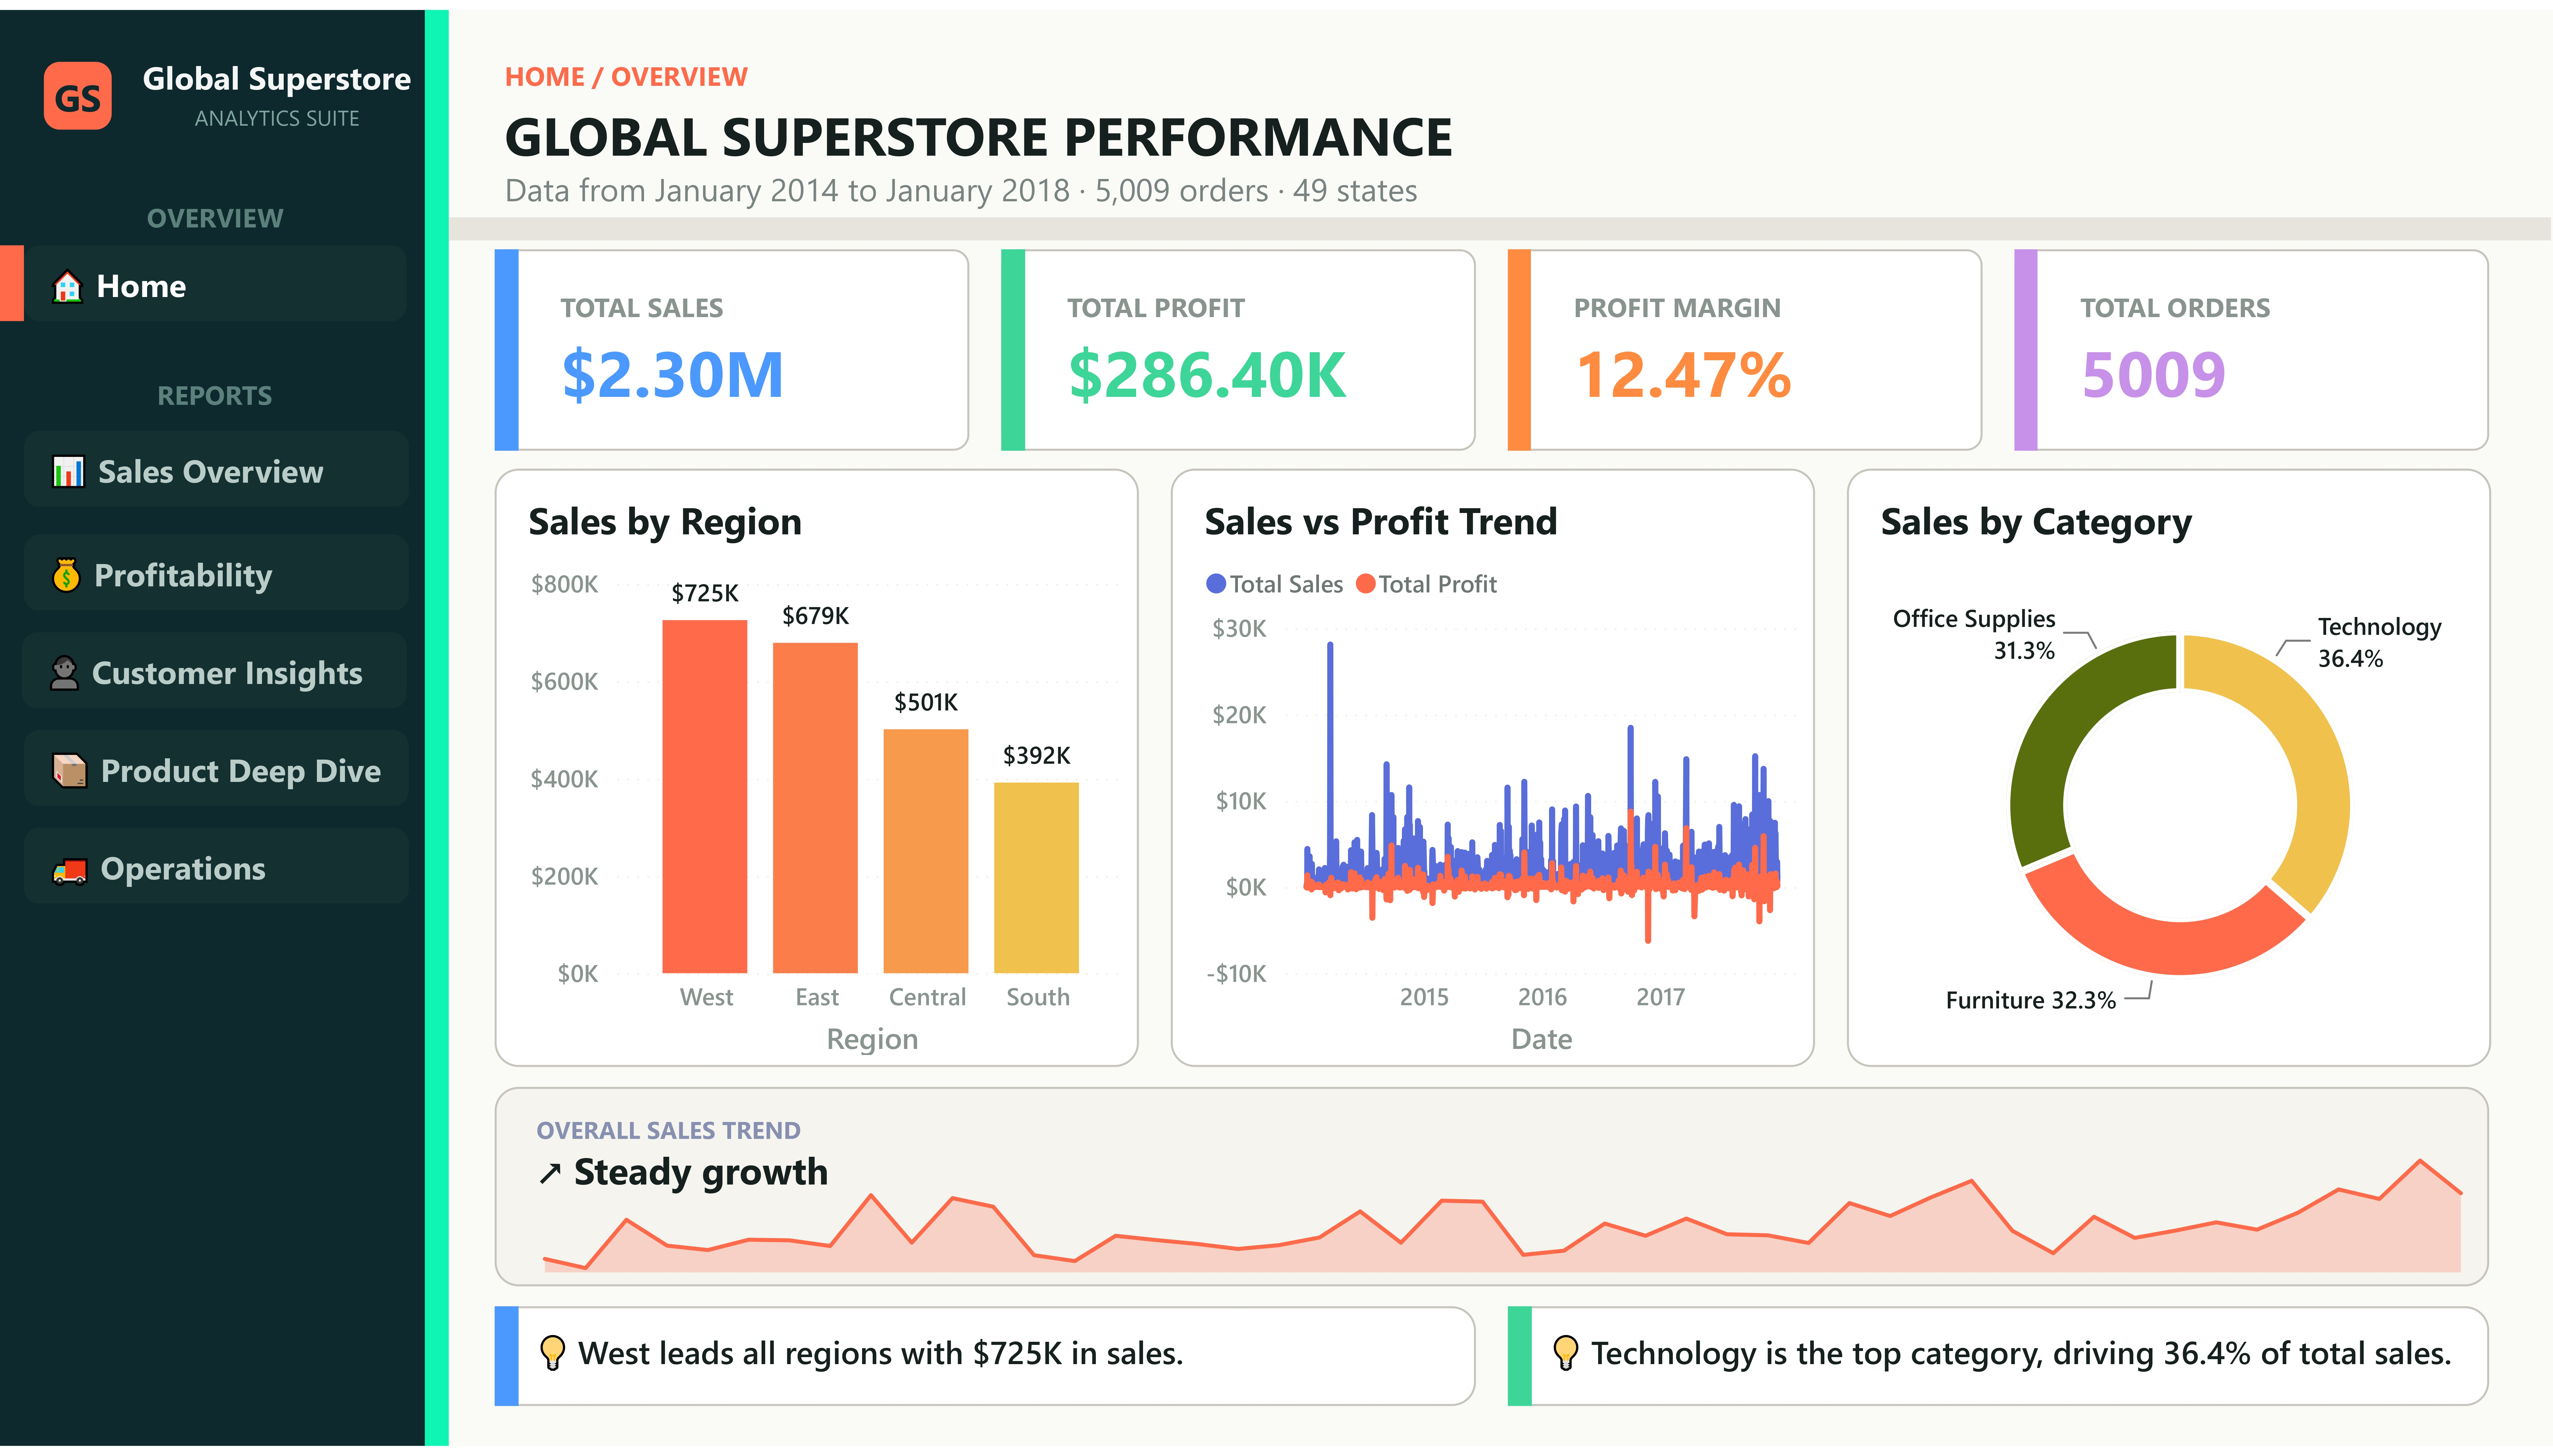

This screenshot's page, from the dashboard's own definition file:
{"tool":"powerbi","page":{"name":"Home","canvas":[1280,720],"ordinal":1},"visuals":[{"type":"cardVisual","fields":{"Data":["Measure.Total Orders"]},"box":[1010,120,238.1,101],"z":0},{"type":"shape","box":[216.4,104,1063.3,11.5],"z":1000},{"type":"shape","box":[0,0,216,720],"z":2000},{"type":"shape","box":[213.3,0,12,720.3],"z":3000},{"type":"shape","box":[22,26,34,34],"z":4000},{"type":"textbox","box":[63.5,18,149.8,50.3],"z":5000},{"type":"textbox","box":[22,90,172,29],"z":6000},{"type":"textbox","box":[22,179,171.4,28.8],"z":7000},{"type":"actionButton","box":[12,118,192,38],"z":8000},{"type":"shape","box":[0,118,12,38],"z":9000},{"type":"actionButton","box":[12,211,193,38.4],"z":10000},{"type":"actionButton","box":[10.8,312,193,38.4],"z":11000},{"type":"actionButton","box":[12,410,193,38.4],"z":12000},{"type":"actionButton","box":[12,263,193,38.4],"z":13000},{"type":"actionButton","box":[12,361,193,38.4],"z":14000},{"type":"textbox","box":[248.2,18.8,499.2,27.4],"z":15000},{"type":"textbox","box":[248.2,39,699.7,46.2],"z":16000},{"type":"cardVisual","fields":{"Data":["Measure.Home Subtitle1"]},"box":[248.2,72.1,699.7,34.6],"z":17000},{"type":"cardVisual","fields":{"Data":["Measure.Total Sales"]},"box":[248.2,120,238,101],"z":18000},{"type":"shape","box":[248,120,12,101],"z":19000},{"type":"cardVisual","fields":{"Data":["Measure.Total Profit"]},"box":[502,120,238.1,101],"z":20000},{"type":"shape","box":[502,120,12,101],"z":21000},{"type":"cardVisual","fields":{"Data":["Measure.ProfitMargin%"]},"box":[756,120,238.1,101],"z":22000},{"type":"shape","box":[756,120,11.5,101],"z":23000},{"type":"shape","box":[1010,120,11.5,101],"z":24000},{"type":"clusteredColumnChart","title":"Sales by Region","fields":{"Category":["SuperstoreData.Region"],"Y":["Measure.Total Sales"]},"box":[248.2,230,323,300],"z":25000},{"type":"lineChart","title":"Sales vs Profit Trend","fields":{"Category":["DateMaster.Date"],"Y":["Measure.Total Sales","Measure.Total Profit"]},"box":[587,230,323.2,300],"z":26000},{"type":"donutChart","title":"Sales by Category","fields":{"Category":["SuperstoreData.Category"],"Y":["Measure.Total Sales"]},"box":[926,230,323.2,300],"z":27000},{"type":"areaChart","fields":{"Y":["Measure.Total Sales"],"Category":["DateMaster.Year","DateMaster.Month_Name"]},"box":[248.2,540,1000,100],"z":28000},{"type":"textbox","box":[264,546.8,180.3,60.6],"z":29000},{"type":"cardVisual","fields":{"Data":["DateMaster.Insight 1 Text"]},"box":[248.2,650,492,50.5],"z":30000},{"type":"cardVisual","fields":{"Data":["DateMaster.Insight 2 Text"]},"box":[756,650,492,50.5],"z":31000},{"type":"shape","box":[248,650,12,50],"z":32000},{"type":"shape","box":[756,650,12,50],"z":33000}]}

Visuals, with their boxes on the page's 1280x720 design canvas (x1, y1, x2, y2). These are canvas units, not pixel positions in the 2553x1456 screenshot, which may show the page scaled, cropped or inside an application window:
cardVisual - Measure.Total Orders: x1=1010, y1=120, x2=1248, y2=221
shape: x1=216, y1=104, x2=1280, y2=116
shape: x1=0, y1=0, x2=216, y2=720
shape: x1=213, y1=0, x2=225, y2=720
shape: x1=22, y1=26, x2=56, y2=60
textbox: x1=64, y1=18, x2=213, y2=68
textbox: x1=22, y1=90, x2=194, y2=119
textbox: x1=22, y1=179, x2=193, y2=208
actionButton: x1=12, y1=118, x2=204, y2=156
shape: x1=0, y1=118, x2=12, y2=156
actionButton: x1=12, y1=211, x2=205, y2=249
actionButton: x1=11, y1=312, x2=204, y2=350
actionButton: x1=12, y1=410, x2=205, y2=448
actionButton: x1=12, y1=263, x2=205, y2=301
actionButton: x1=12, y1=361, x2=205, y2=399
textbox: x1=248, y1=19, x2=747, y2=46
textbox: x1=248, y1=39, x2=948, y2=85
cardVisual - Measure.Home Subtitle1: x1=248, y1=72, x2=948, y2=107
cardVisual - Measure.Total Sales: x1=248, y1=120, x2=486, y2=221
shape: x1=248, y1=120, x2=260, y2=221
cardVisual - Measure.Total Profit: x1=502, y1=120, x2=740, y2=221
shape: x1=502, y1=120, x2=514, y2=221
cardVisual - Measure.ProfitMargin%: x1=756, y1=120, x2=994, y2=221
shape: x1=756, y1=120, x2=768, y2=221
shape: x1=1010, y1=120, x2=1022, y2=221
"Sales by Region" clusteredColumnChart: x1=248, y1=230, x2=571, y2=530
"Sales vs Profit Trend" lineChart: x1=587, y1=230, x2=910, y2=530
"Sales by Category" donutChart: x1=926, y1=230, x2=1249, y2=530
areaChart - Measure.Total Sales x DateMaster.Year: x1=248, y1=540, x2=1248, y2=640
textbox: x1=264, y1=547, x2=444, y2=607
cardVisual - DateMaster.Insight 1 Text: x1=248, y1=650, x2=740, y2=700
cardVisual - DateMaster.Insight 2 Text: x1=756, y1=650, x2=1248, y2=700
shape: x1=248, y1=650, x2=260, y2=700
shape: x1=756, y1=650, x2=768, y2=700
